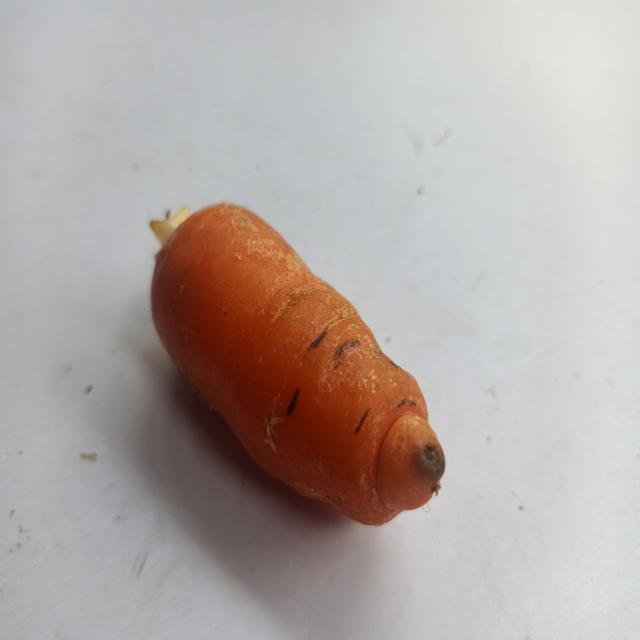Carrot: (125, 165, 460, 550)
